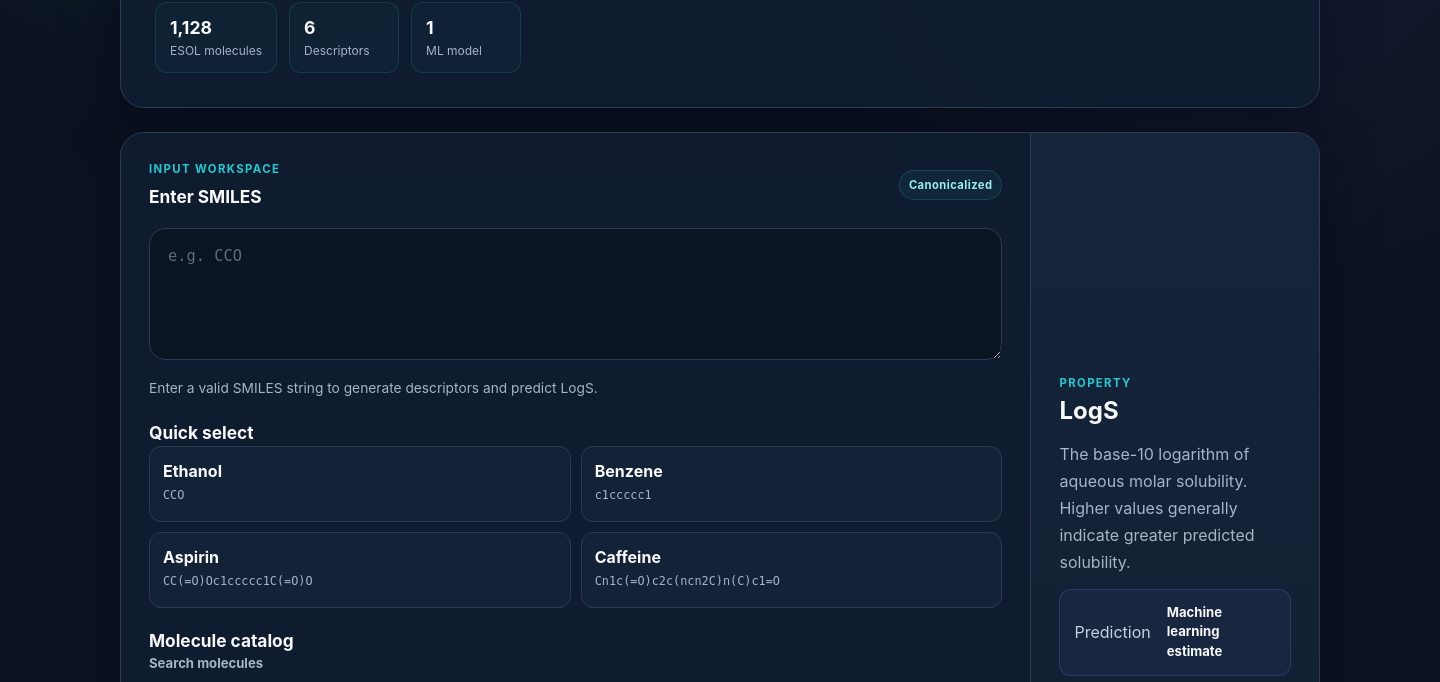
Test: Molecular Property Predictor › shows an explicit unavailable experimental reference
This screenshot has width=1440, height=682.
(page scrolled)
Type "CCN" into the text box named "SMILES" at (576, 294), box [149,228,1002,360]
(page scrolled)
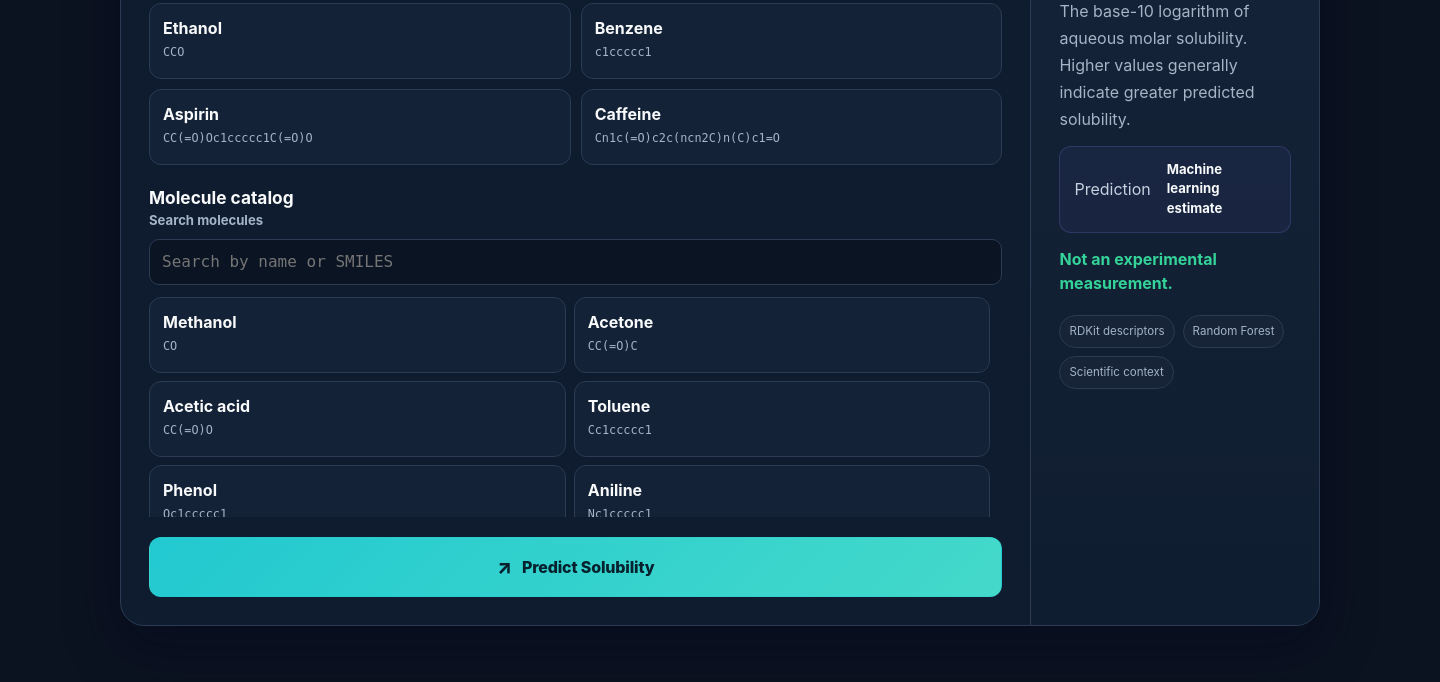
Click the button "↗ Predict Solubility" at (576, 567), box [149,537,1002,598]
(page scrolled)
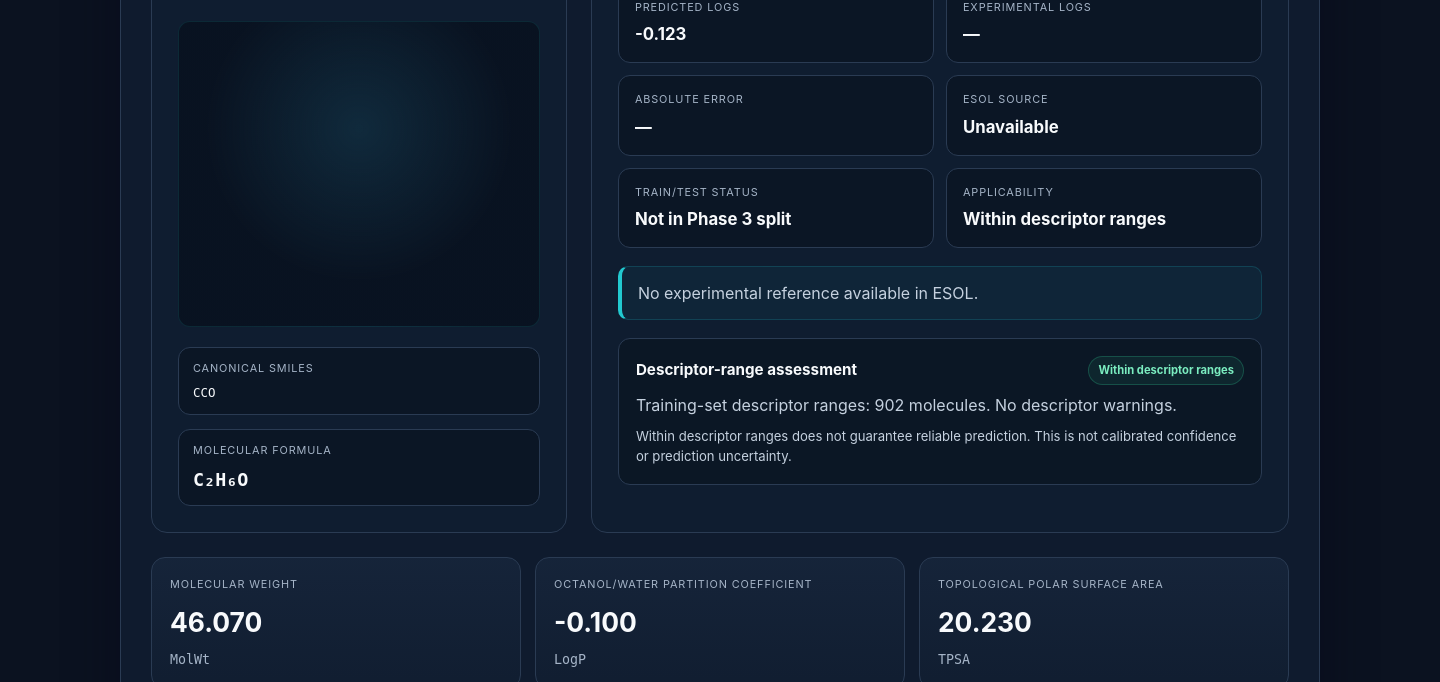
expect the text "No experimental reference available in ESOL." is shown: met, box [638,283,978,303]
